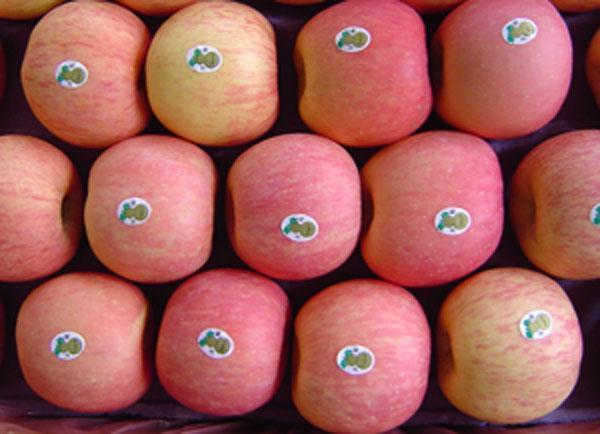apple: (449, 265, 600, 425), (368, 137, 516, 291), (290, 279, 432, 430), (290, 1, 434, 146), (236, 134, 375, 281), (154, 269, 291, 418), (15, 272, 155, 415), (83, 147, 219, 294), (429, 1, 573, 139), (18, 2, 155, 147), (145, 1, 280, 146), (1, 135, 88, 284), (517, 137, 600, 285)
